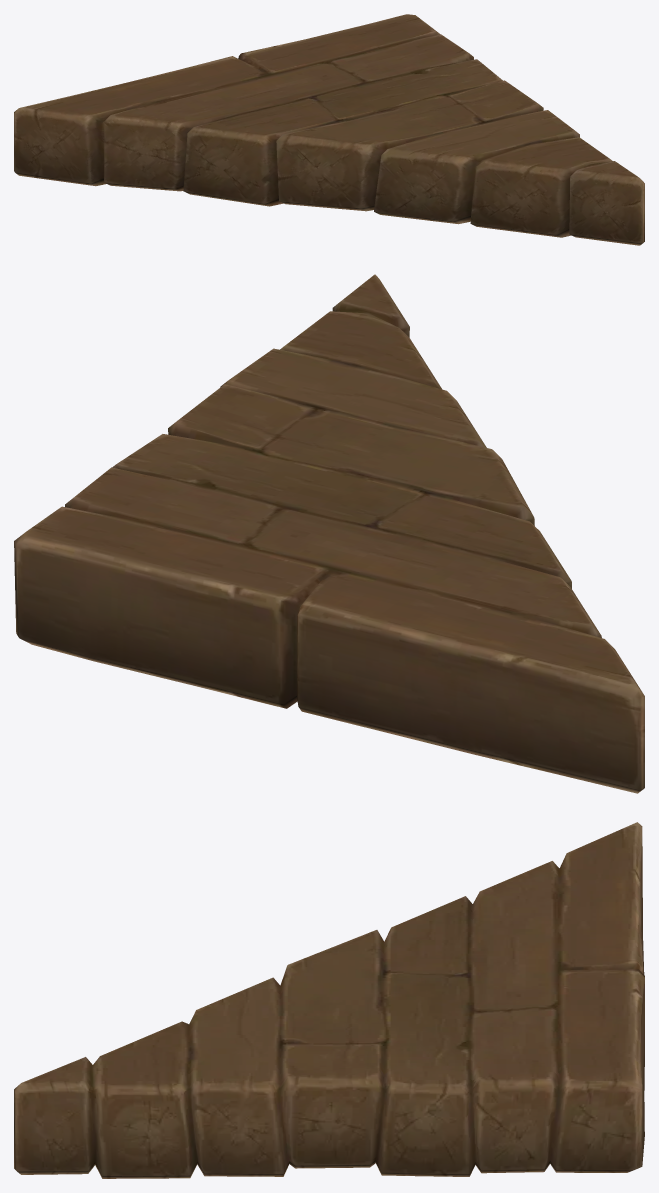
3 views of the same model, one above another, from view 1: azimuth 30°, elevation 25°; view 2: azimuth 150°, elevation 25°; view 3: azimuth 270°, elevation 25° (orthographic). The views are drawn at different scales.
Bounding box in the file's own units: 5.02 × 0.8576 × 4.97.
Materials: 1 (1 with a texture image).
